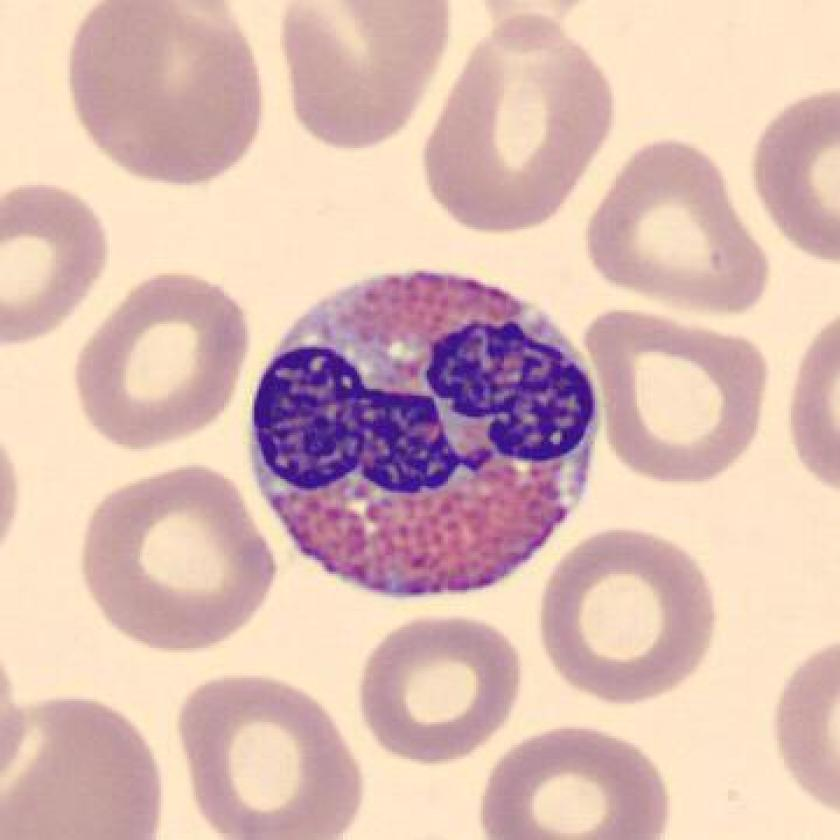eosinophil: (234, 247, 610, 617)
